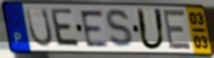E: (50, 7, 83, 50), (162, 8, 193, 51), (78, 9, 111, 49)
S: (105, 8, 138, 51)
U: (135, 7, 168, 52), (24, 7, 55, 49)
